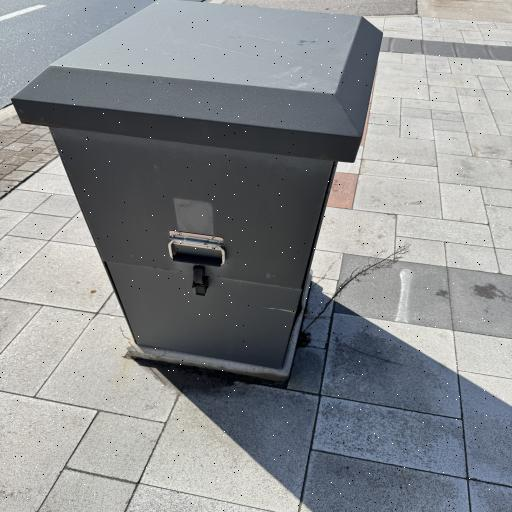Electrical Box: (10, 0, 381, 384)
